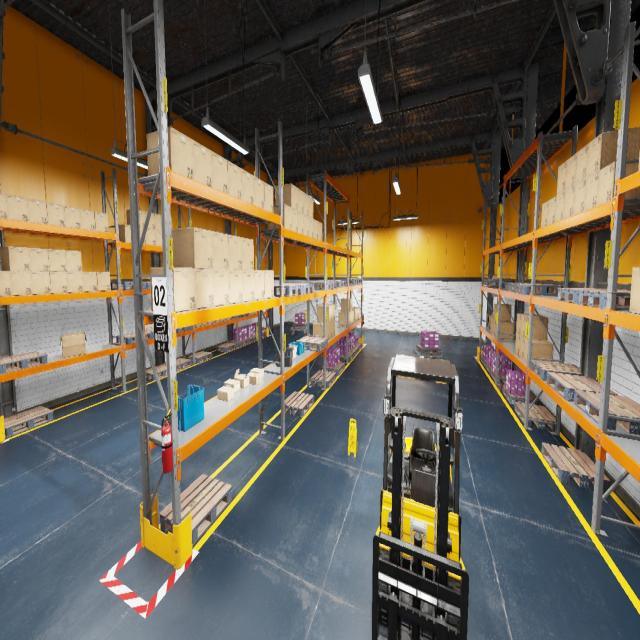box: (586, 127, 640, 178), (146, 126, 194, 180), (150, 267, 196, 312), (597, 158, 640, 206), (171, 227, 213, 268), (193, 140, 212, 187), (195, 268, 214, 309), (0, 246, 30, 271), (211, 150, 228, 194), (520, 315, 548, 340), (524, 339, 553, 363), (60, 332, 86, 357), (6, 194, 28, 222), (212, 231, 228, 269), (227, 160, 242, 200), (268, 204, 291, 230), (275, 183, 297, 210), (213, 269, 229, 306), (584, 172, 599, 210), (516, 314, 541, 336), (27, 198, 47, 224), (629, 268, 640, 314), (10, 272, 32, 295), (576, 143, 588, 184), (228, 234, 242, 269), (228, 270, 242, 304), (573, 179, 586, 215), (241, 168, 254, 204), (29, 248, 49, 271), (565, 152, 577, 190), (46, 202, 65, 226), (31, 271, 50, 294), (49, 272, 68, 294), (242, 270, 255, 302), (242, 237, 254, 270), (48, 249, 66, 271), (64, 205, 80, 229), (564, 185, 575, 219), (495, 321, 514, 340), (65, 250, 82, 271), (253, 176, 264, 208), (557, 160, 567, 195), (80, 208, 95, 230), (126, 210, 145, 227), (67, 272, 83, 292), (94, 211, 109, 232), (555, 191, 565, 222), (494, 304, 512, 321), (234, 368, 249, 388), (254, 270, 264, 300), (82, 272, 97, 292), (0, 271, 12, 296), (316, 304, 332, 322), (264, 270, 274, 298), (96, 271, 110, 291), (264, 182, 273, 213), (493, 320, 510, 336), (313, 322, 329, 339), (217, 386, 234, 401), (548, 196, 556, 225), (541, 200, 549, 228), (322, 304, 335, 321), (119, 224, 131, 242), (224, 379, 240, 392), (0, 192, 8, 218), (247, 372, 261, 385), (145, 211, 155, 229), (338, 311, 350, 325), (291, 208, 298, 232), (146, 228, 155, 245), (341, 311, 352, 324), (341, 298, 352, 311), (250, 368, 264, 378), (303, 214, 309, 236), (298, 188, 303, 213), (298, 211, 303, 234), (155, 230, 162, 246), (515, 334, 520, 356), (155, 213, 161, 230), (140, 227, 146, 244), (520, 336, 524, 360), (352, 308, 360, 320), (304, 192, 308, 216), (309, 196, 313, 218), (309, 217, 313, 238), (318, 221, 322, 241), (314, 219, 318, 239), (488, 314, 493, 329), (332, 320, 335, 337), (329, 322, 332, 339), (490, 317, 493, 333), (638, 148, 640, 171), (194, 323, 203, 327), (352, 310, 354, 322), (214, 319, 222, 322), (203, 322, 209, 325), (209, 321, 214, 324), (227, 317, 231, 320), (222, 318, 226, 321), (171, 217, 172, 229)
forklift: (376, 354, 465, 639)
pallets: (160, 474, 231, 546), (541, 442, 610, 492), (574, 390, 640, 434), (547, 372, 618, 401), (4, 406, 53, 438), (514, 402, 556, 431), (530, 360, 585, 381), (0, 351, 48, 374), (578, 290, 630, 310), (558, 288, 626, 303), (284, 391, 314, 417), (502, 385, 539, 406), (516, 284, 563, 295), (296, 336, 328, 351), (310, 370, 336, 388), (116, 332, 153, 344), (163, 358, 192, 371), (509, 283, 548, 292), (274, 284, 302, 296), (146, 364, 167, 380), (284, 284, 314, 294), (187, 351, 212, 363), (322, 362, 344, 375), (111, 282, 146, 290), (490, 368, 506, 384), (306, 281, 334, 290), (416, 345, 441, 354), (216, 343, 237, 352), (504, 283, 529, 290), (316, 281, 340, 288), (487, 280, 514, 286), (231, 338, 249, 347), (340, 351, 354, 362), (176, 325, 192, 333), (328, 281, 346, 287), (341, 278, 358, 284), (483, 279, 499, 285), (145, 328, 154, 338), (232, 313, 248, 318), (485, 361, 491, 374), (354, 342, 362, 351), (246, 336, 257, 342), (255, 332, 266, 338), (293, 323, 306, 328), (351, 347, 358, 356), (481, 355, 486, 367), (142, 282, 150, 288), (358, 279, 362, 283)
